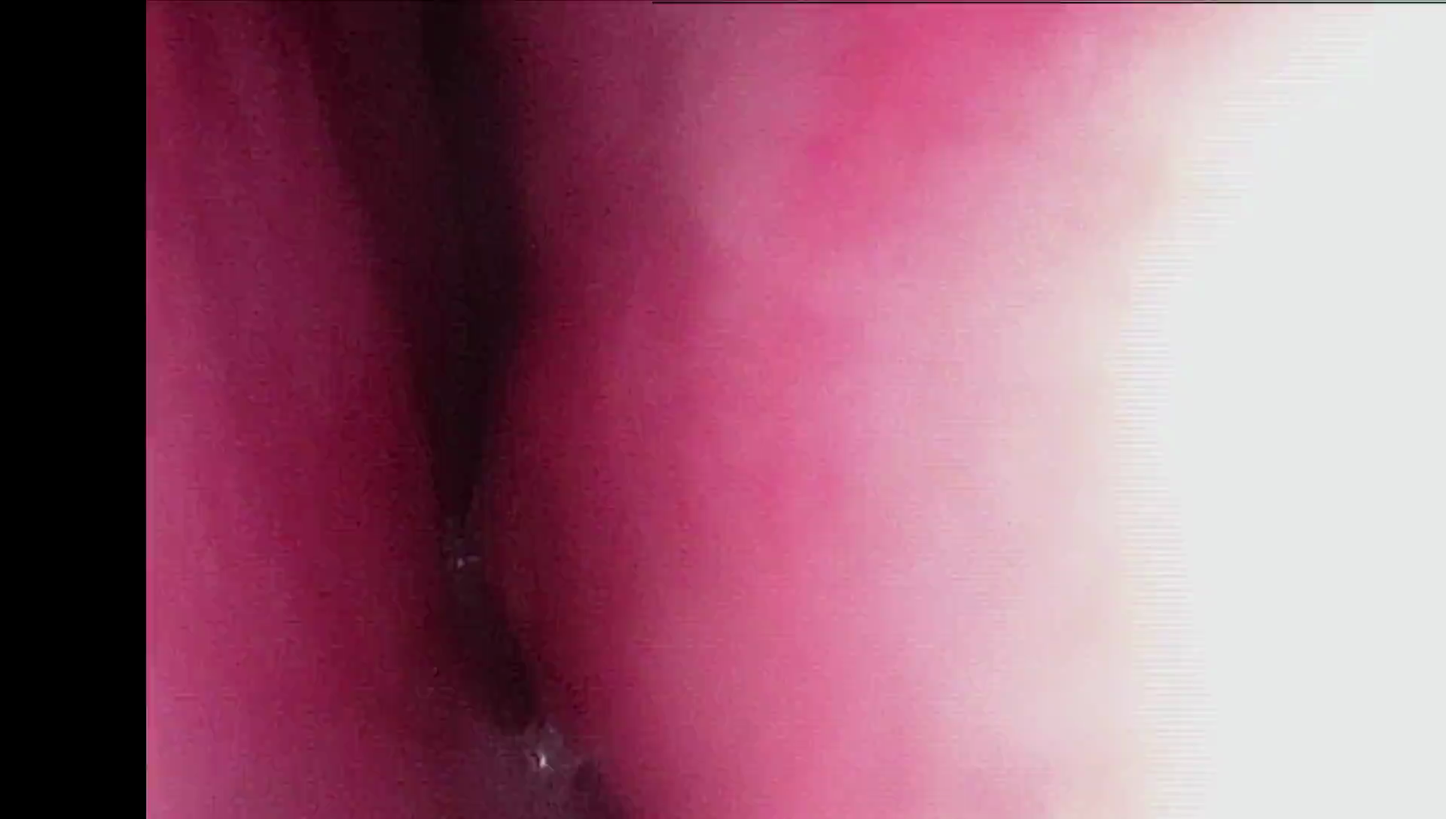close_wall: (711, 14, 1445, 819)
next: (393, 191, 571, 547), (395, 555, 584, 751)
